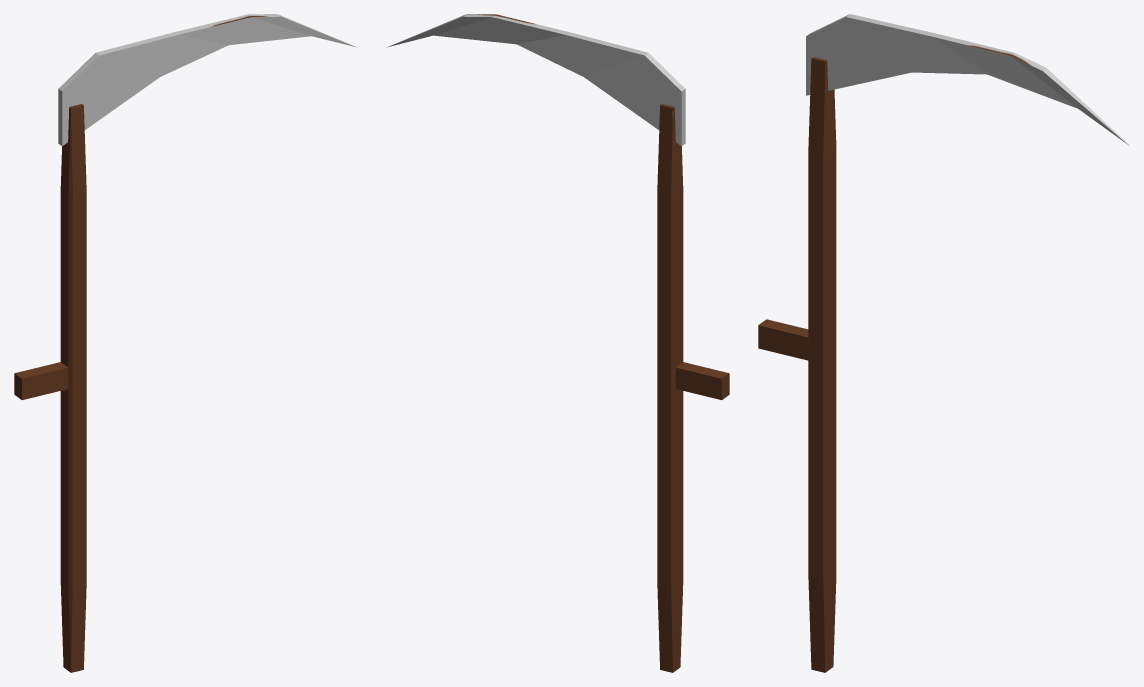
Rendered from Scyth.fbx.
The picture shows the model from 3 angles, left to right: view 1: azimuth 30°, elevation 25°; view 2: azimuth 150°, elevation 25°; view 3: azimuth 330°, elevation 25°; orthographic projection. The views are drawn at different scales.
Parts seen in each view (by area): view 1: Cube; view 2: Cube; view 3: Cube.
Boxes of the visible parts, x1=… form: Cube: x1=14, y1=14, x2=356, y2=672; Cube: x1=387, y1=14, x2=729, y2=672; Cube: x1=758, y1=14, x2=1129, y2=672.
Size of the model in its own units: 246 by 422 by 13.66.
Materials: 1 (1 with a texture image).
